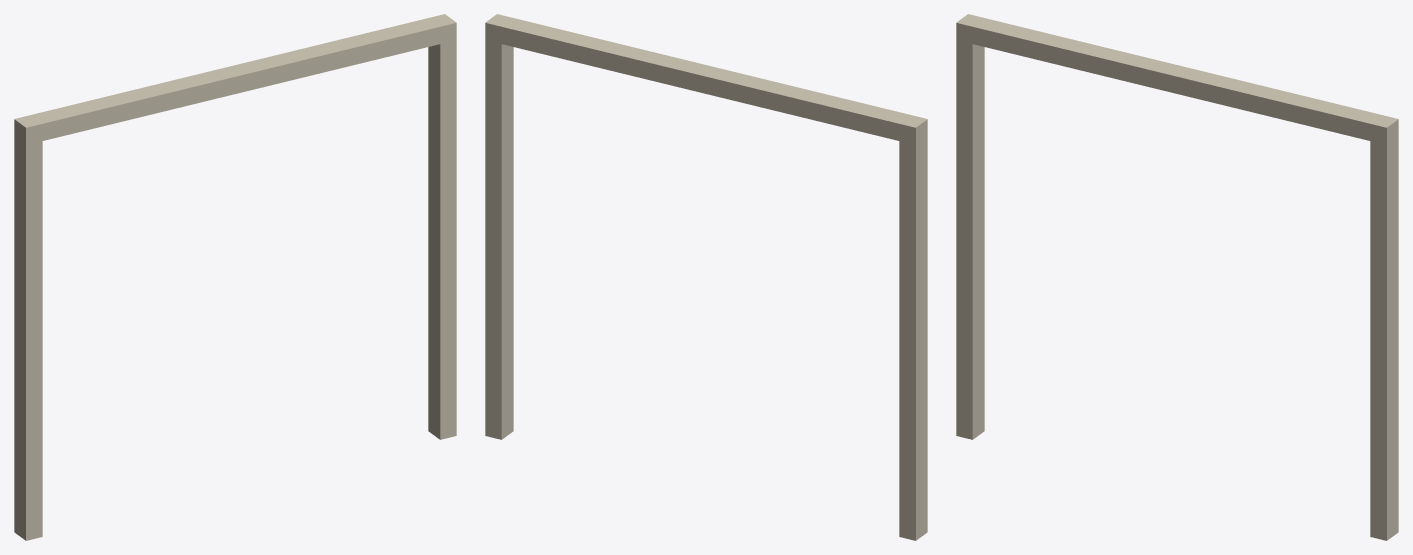
File: bay.glb
3 views of the same model, side by side, from view 1: azimuth 30°, elevation 25°; view 2: azimuth 150°, elevation 25°; view 3: azimuth 330°, elevation 25° (orthographic).
Visible parts, largest first — view 1: bay; view 2: bay; view 3: bay.
Boxes of the visible parts, x1=… form: bay: x1=14, y1=14, x2=456, y2=540; bay: x1=485, y1=14, x2=927, y2=540; bay: x1=956, y1=14, x2=1398, y2=540.
Bounding box in the file's own units: 3.12 × 2.86 × 0.15.
